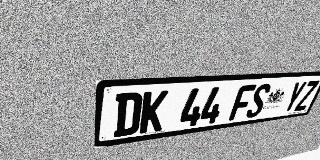4: (178, 88, 208, 128), (198, 86, 227, 125)
D: (113, 92, 143, 137)
F: (228, 84, 257, 121)
K: (139, 90, 169, 134)
S: (244, 83, 272, 118)
Y: (281, 81, 308, 113)
Z: (293, 80, 320, 111)
